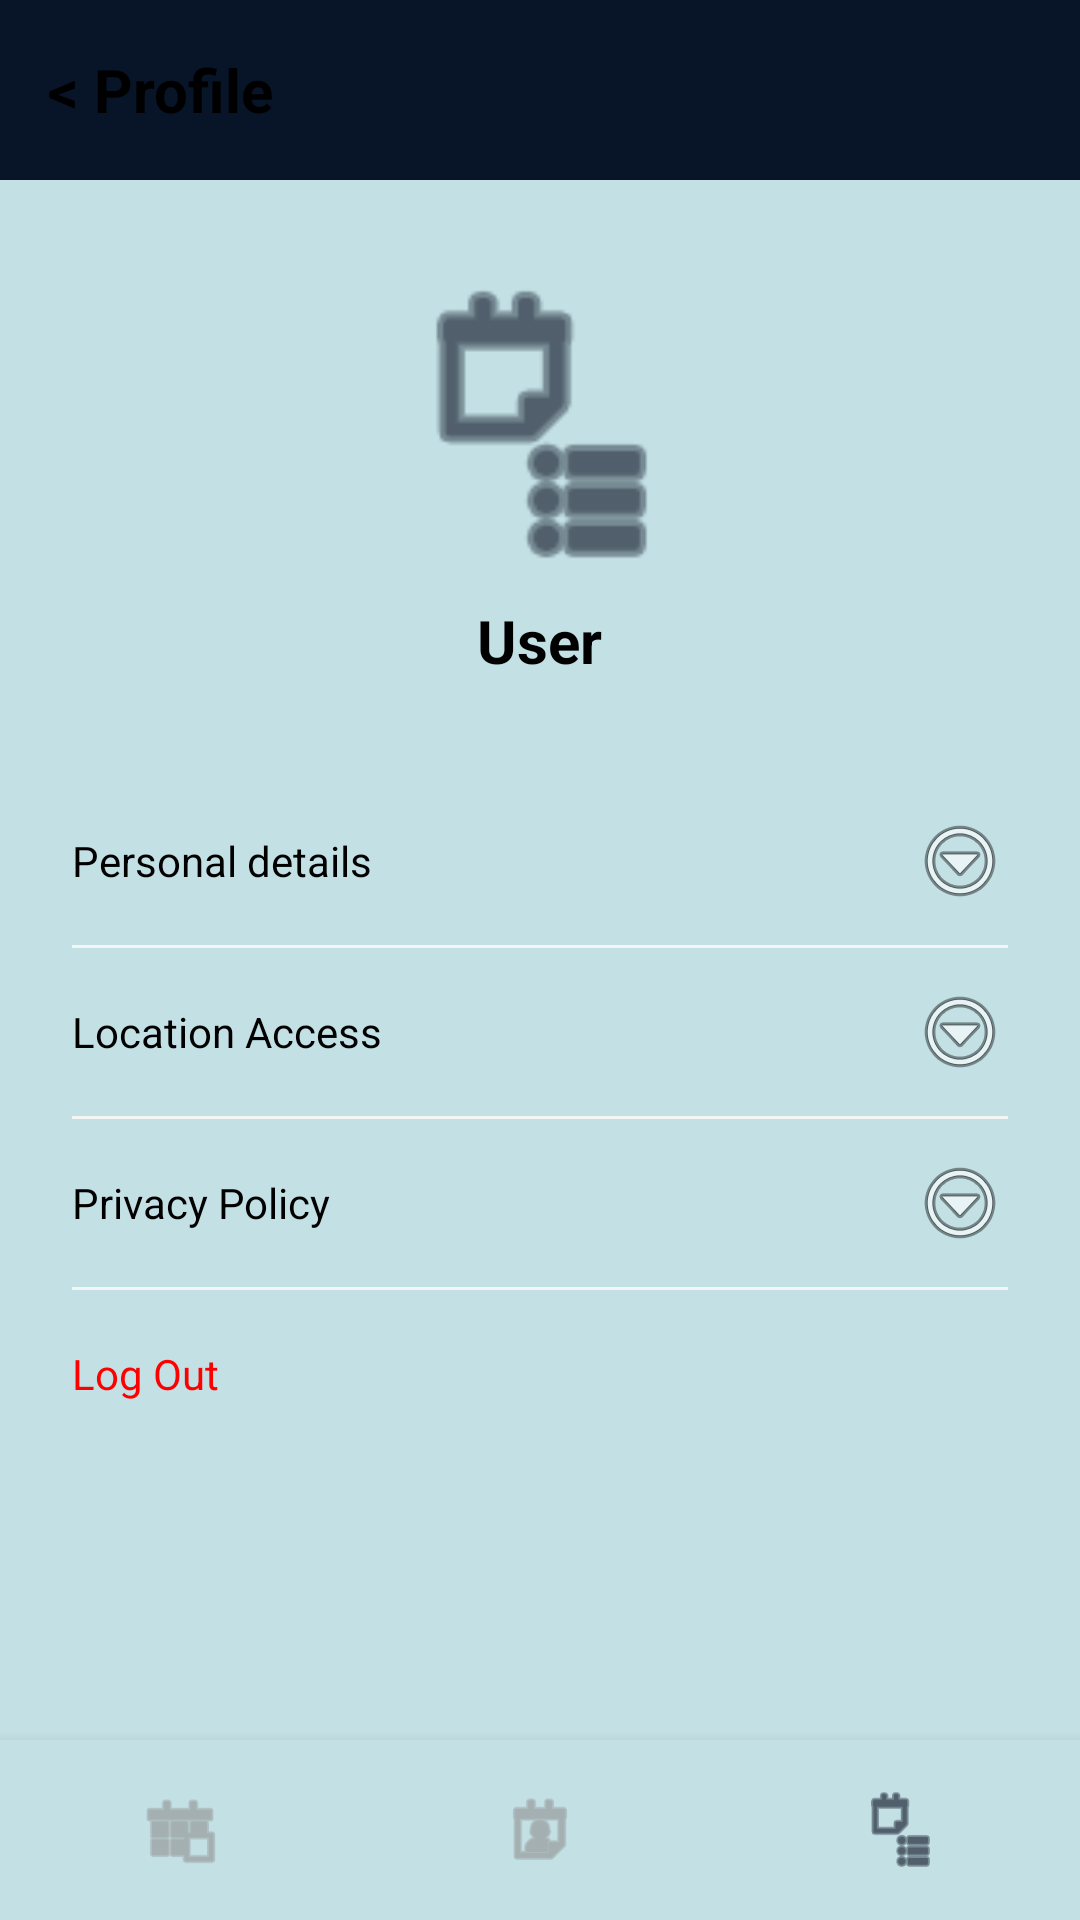

Named icons in this screenshot (1080px×1920px) and their centers, point (x, y):
agenda: point (541, 424), point (900, 1829)
